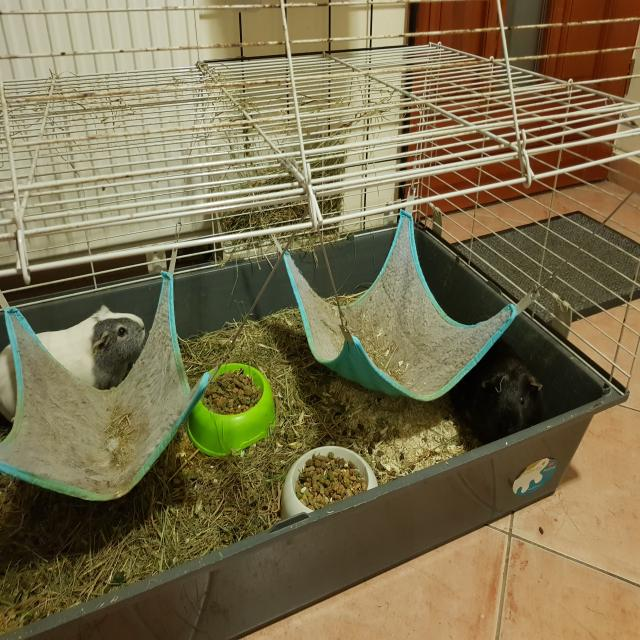guinea pig: (0, 303, 148, 421), (444, 332, 544, 450)
